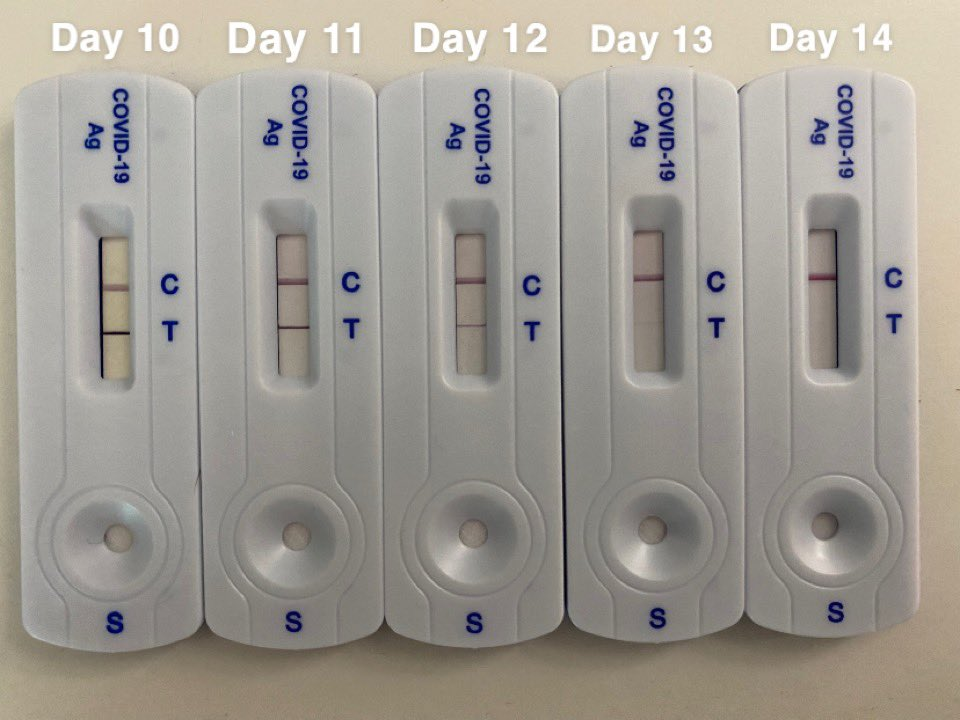negative: (805, 214, 849, 375)
positive: (73, 205, 140, 400), (261, 203, 320, 397), (440, 209, 497, 386), (627, 209, 677, 389)
